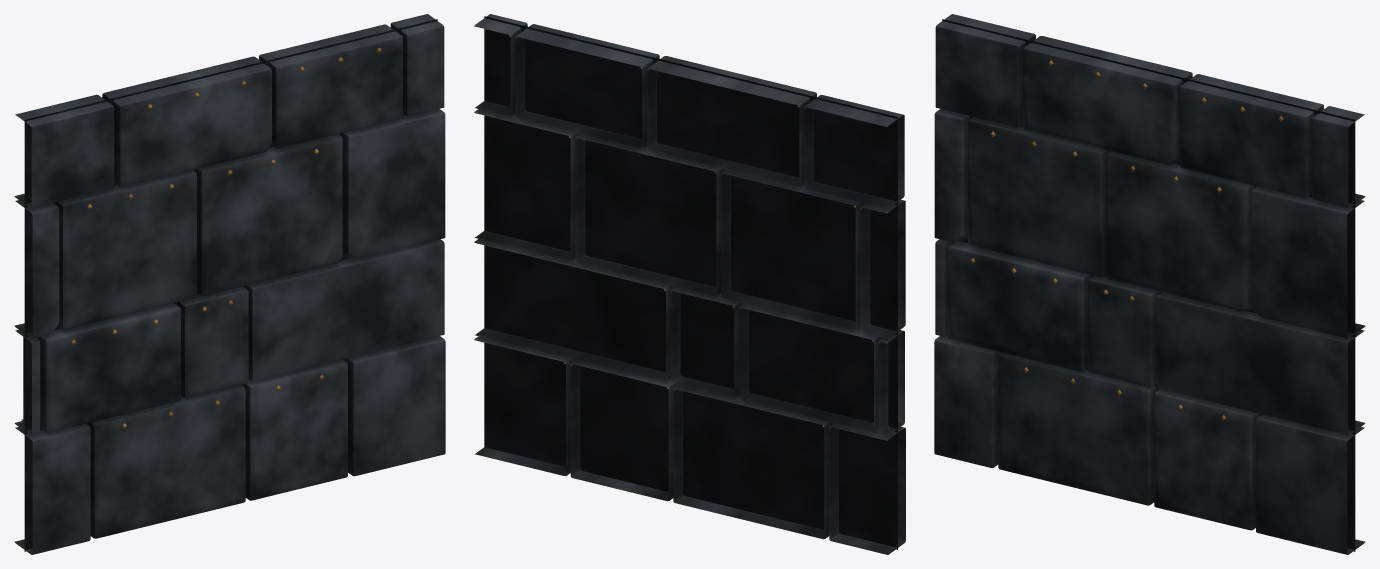
Rendered from ClockLung_BackWall.fbx.
3 renders of one model, left to right at view 1: azimuth 30°, elevation 25°; view 2: azimuth 150°, elevation 25°; view 3: azimuth 330°, elevation 25°, orthographic.
Parts seen in each view (by area): view 1: ClockLung_BackWall; view 2: ClockLung_BackWall; view 3: ClockLung_BackWall.
Part boxes in pixels (x1,y1,x2,y2): ClockLung_BackWall: (14, 14, 445, 554); ClockLung_BackWall: (474, 14, 905, 554); ClockLung_BackWall: (934, 14, 1365, 554).
Size of the model in its own units: 4 by 4 by 0.3483.
